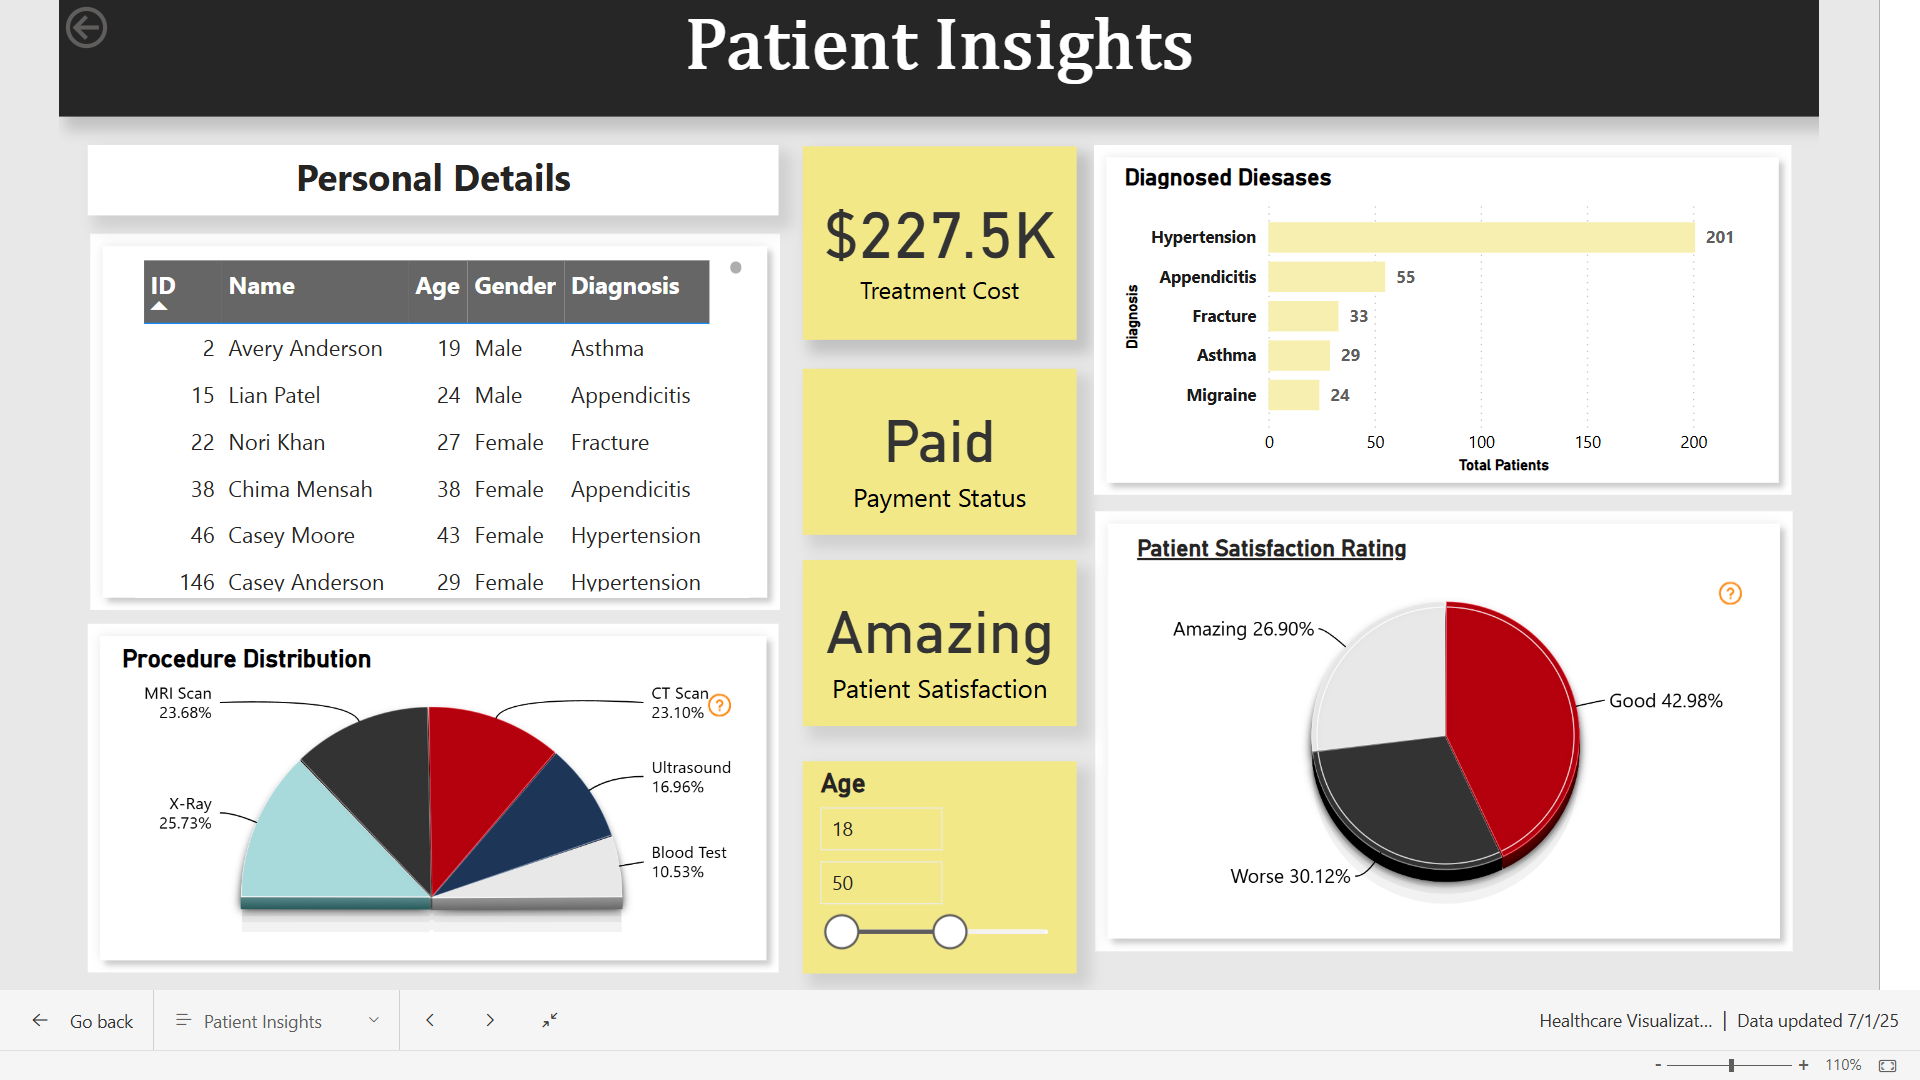

This screenshot's page, from the dashboard's own definition file:
{"tool":"powerbi","page":{"name":"Patient Insights","canvas":[1280,720],"ordinal":1},"visuals":[{"type":"textbox","box":[0,0,1280.4,84.5],"z":0},{"type":"card","fields":{"Values":["Healthcare Dataset.Payment Status"]},"box":[541,268.3,199.5,120.6],"z":1000},{"type":"card","fields":{"Values":["Healthcare Dataset.Bill Amount"]},"box":[541,105.9,199.5,140.9],"z":2000},{"type":"shape","box":[753.5,372.1,507,319.8],"z":3000},{"type":"ZoomChartsDrillDownPieProC062D62DA5CE45ECB95B7B1D0E5DA558","title":"Patient Satisfaction Rating","fields":{"Category":["Healthcare Dataset.Patient Satisfaction","Healthcare Dataset.Department","Healthcare Dataset.Diagnosis"],"Values":["Healthcare Dataset.Payment Status"]},"box":[779.1,388.4,457,291.9],"z":4000},{"type":"shape","box":[752.3,105.8,507,254.7],"z":5000},{"type":"clusteredBarChart","title":"Diagnosed Diesases","fields":{"Category":["Healthcare Dataset.Diagnosis"],"Y":["Healthcare Dataset.Total Patients"]},"box":[769.8,118.6,467.4,231.4],"z":6000},{"type":"shape","box":[22.4,170.4,501.3,273.7],"z":7000},{"type":"tableEx","fields":{"Values":["Healthcare Dataset.Patient ID","Healthcare Dataset.Patient Name","Healthcare Dataset.Age","Healthcare Dataset.Gender","Healthcare Dataset.Diagnosis"]},"box":[55.2,184.8,446.3,250.2],"z":8000},{"type":"shape","box":[21.1,454,502.6,253.8],"z":9000},{"type":"ZoomChartsDrillDownPieProC062D62DA5CE45ECB95B7B1D0E5DA558","title":"Procedure Distribution","fields":{"Category":["Healthcare Dataset.Procedure"],"Values":["Healthcare Dataset.Procedure"]},"box":[41.1,467.7,461.5,227.6],"z":10000},{"type":"actionButton","box":[0,0,100,40],"z":11000},{"type":"card","fields":{"Values":["Healthcare Dataset.Patient Satisfaction"]},"box":[541,406.9,199.5,120.6],"z":12000},{"type":"slicer","fields":{"Values":["Healthcare Dataset.Age"]},"box":[541,553.4,199.5,154.4],"z":13000},{"type":"textbox","box":[21.1,105.7,502.6,51],"z":15000}]}

Visuals, with their boxes on the page's 1280x720 design canvas (x1, y1, x2, y2). These are canvas units, not pixel positions in the 1920x1080 screenshot, which may show the page scaled, cropped or inside an application window:
textbox: BBox(0, 0, 1280, 84)
card - Healthcare Dataset.Payment Status: BBox(541, 268, 740, 389)
card - Healthcare Dataset.Bill Amount: BBox(541, 106, 740, 247)
shape: BBox(754, 372, 1260, 692)
"Patient Satisfaction Rating" ZoomChartsDrillDownPieProC062D62DA5CE45ECB95B7B1D0E5DA558: BBox(779, 388, 1236, 680)
shape: BBox(752, 106, 1259, 360)
"Diagnosed Diesases" clusteredBarChart: BBox(770, 119, 1237, 350)
shape: BBox(22, 170, 524, 444)
tableEx - Healthcare Dataset.Patient ID x Healthcare Dataset.Patient Name: BBox(55, 185, 502, 435)
shape: BBox(21, 454, 524, 708)
"Procedure Distribution" ZoomChartsDrillDownPieProC062D62DA5CE45ECB95B7B1D0E5DA558: BBox(41, 468, 503, 695)
actionButton: BBox(0, 0, 100, 40)
card - Healthcare Dataset.Patient Satisfaction: BBox(541, 407, 740, 528)
slicer - Healthcare Dataset.Age: BBox(541, 553, 740, 708)
textbox: BBox(21, 106, 524, 157)
